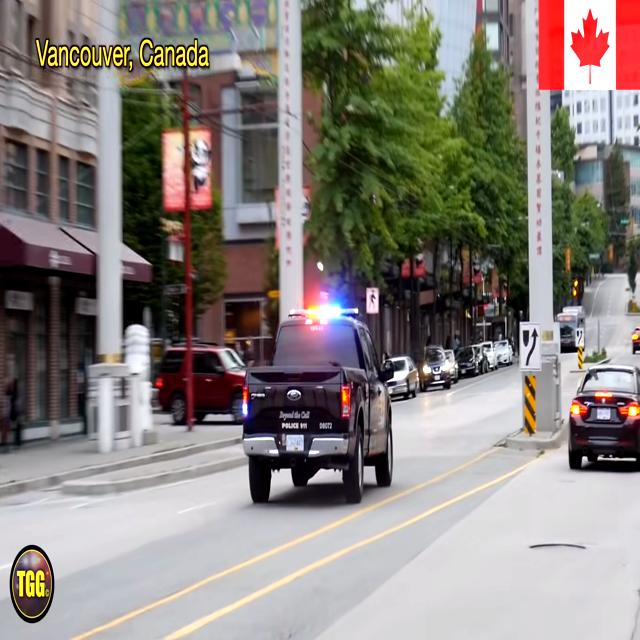emergency-vehicles: (206, 294, 426, 504)
